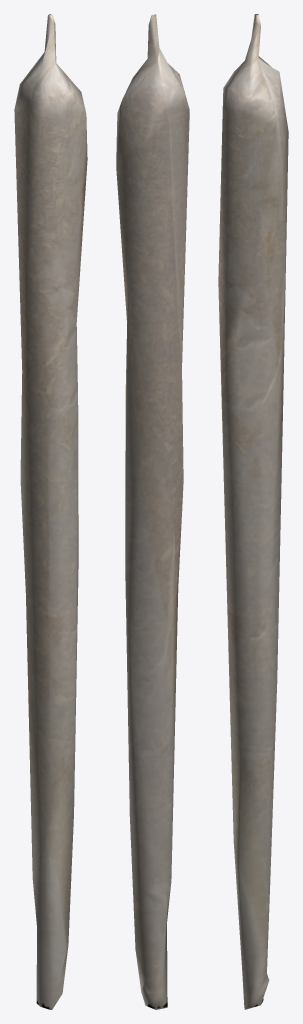
File: bedo.fbx
3 views of the same model, side by side, from view 1: azimuth 30°, elevation 25°; view 2: azimuth 210°, elevation 25°; view 3: azimuth 330°, elevation 25° (orthographic).
Parts seen in each view (by area): view 1: Simplygon_Proxy_5153e068-431a-4114-9fa9-ebc27b8ea276; view 2: Simplygon_Proxy_5153e068-431a-4114-9fa9-ebc27b8ea276; view 3: Simplygon_Proxy_5153e068-431a-4114-9fa9-ebc27b8ea276.
Part boxes in pixels (bbox=[...]): Simplygon_Proxy_5153e068-431a-4114-9fa9-ebc27b8ea276: bbox=[14, 14, 87, 1009]; Simplygon_Proxy_5153e068-431a-4114-9fa9-ebc27b8ea276: bbox=[116, 14, 189, 1009]; Simplygon_Proxy_5153e068-431a-4114-9fa9-ebc27b8ea276: bbox=[218, 14, 288, 1009].
Bounding box in the file's own units: 0.2385 × 3.64 × 0.2317.
1 material, 1 textured.
